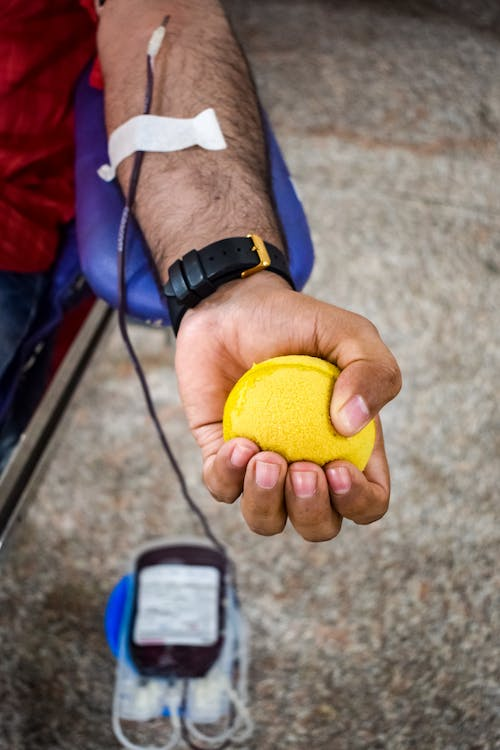blood: (123, 12, 239, 750)
